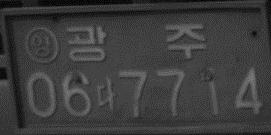0: (25, 71, 56, 119)
1: (192, 67, 225, 115)
4: (233, 67, 264, 113)
6: (60, 70, 92, 118)
7: (118, 70, 149, 118), (155, 68, 184, 117)
광주_D: (66, 23, 207, 63)
다: (95, 76, 118, 113)
영: (23, 26, 59, 63)
